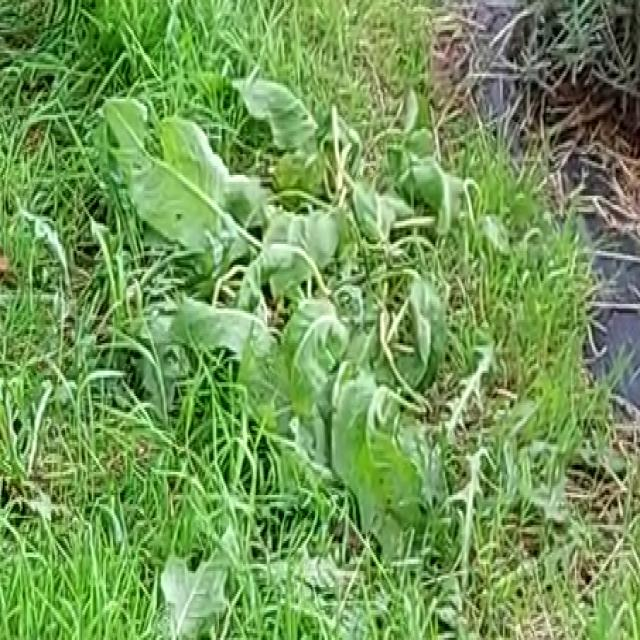organic waste: (90, 88, 455, 516)
